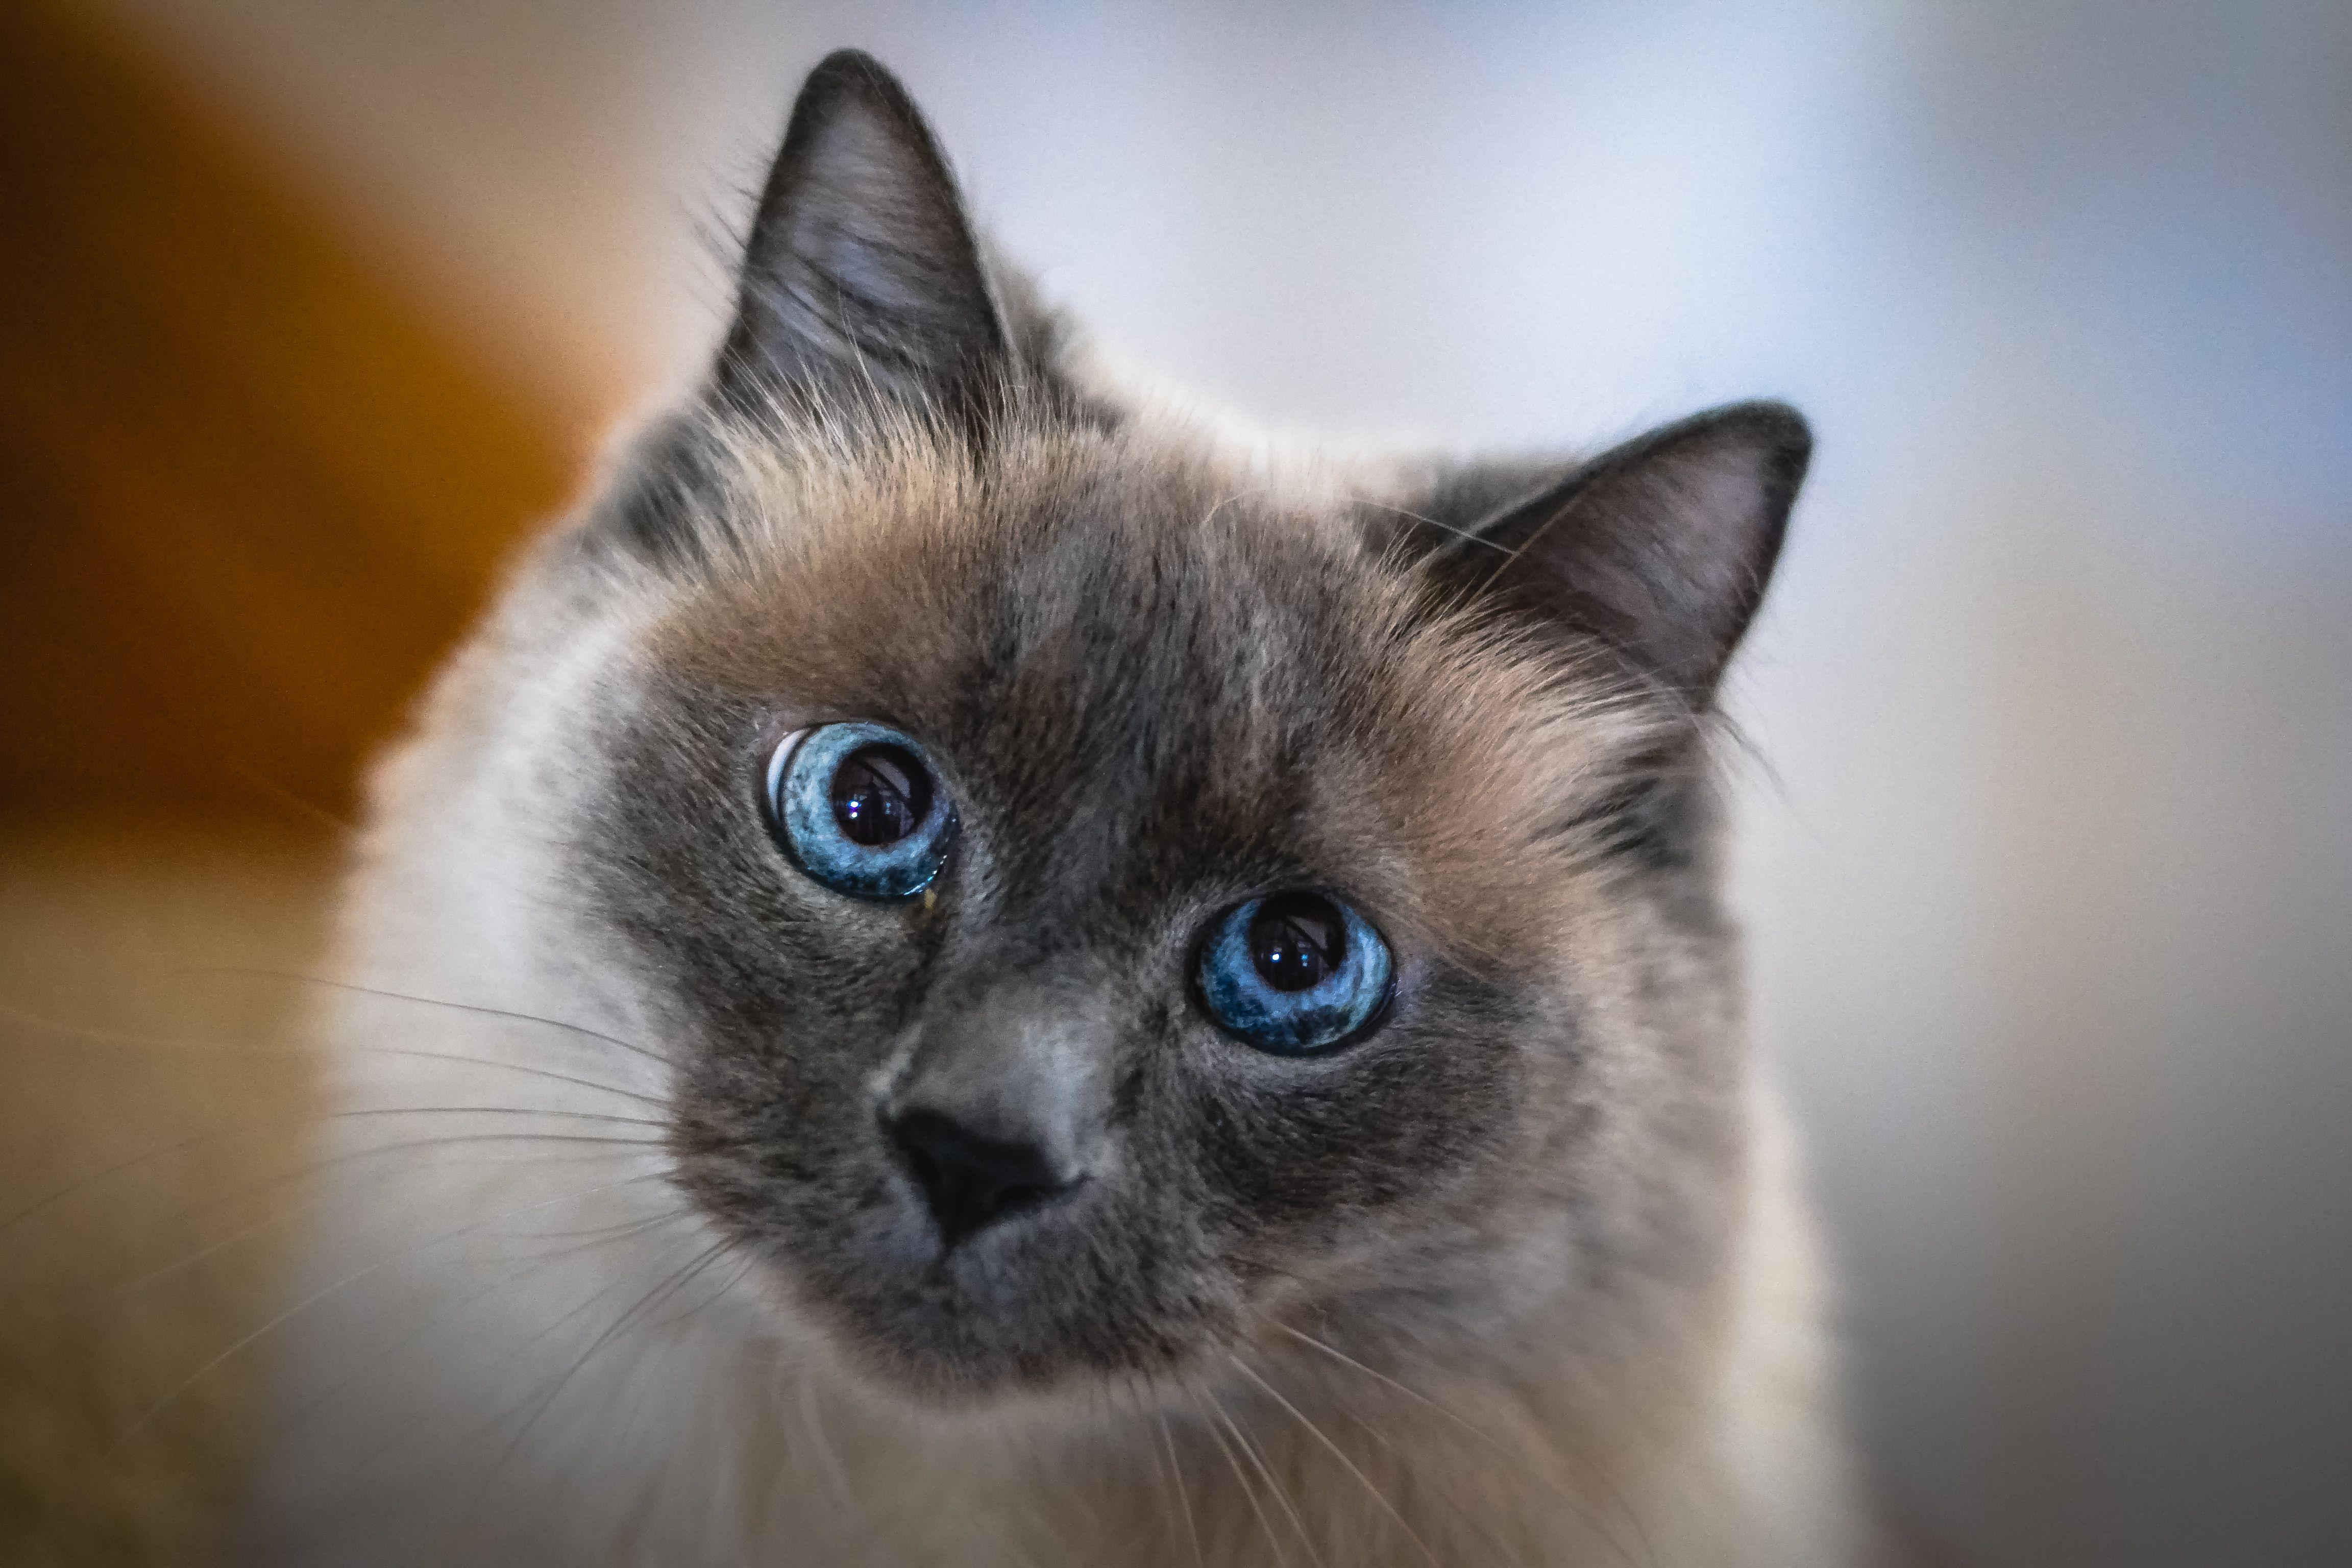siamese: (549, 41, 1892, 1414)
